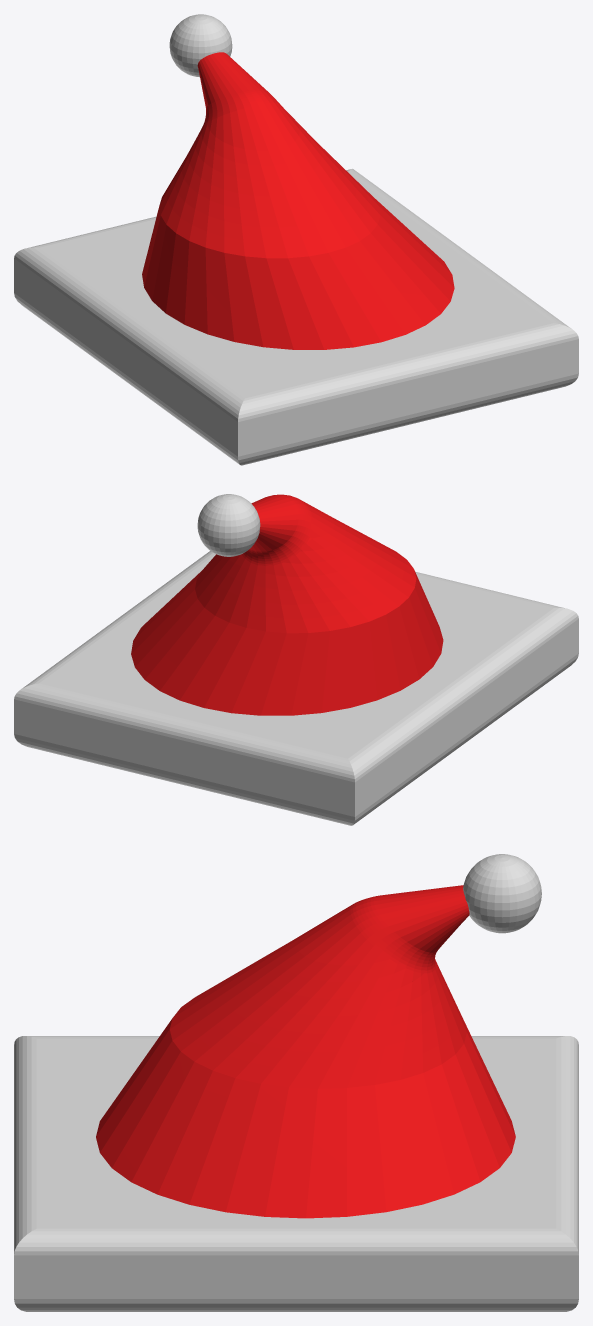
Rendered from hat_3.fbx.
The picture shows the model from 3 angles, top to bottom: view 1: azimuth 30°, elevation 25°; view 2: azimuth 150°, elevation 25°; view 3: azimuth 270°, elevation 25°; orthographic projection. The views are drawn at different scales.
Visible parts, largest first — view 1: Sphere.002; view 2: Sphere.002; view 3: Sphere.002.
Part boxes in pixels (x1,y1,x2,y2): Sphere.002: [14, 14, 578, 465]; Sphere.002: [14, 494, 578, 825]; Sphere.002: [14, 854, 578, 1311].
Bounding box in the file's own units: 715 × 557 × 813.
